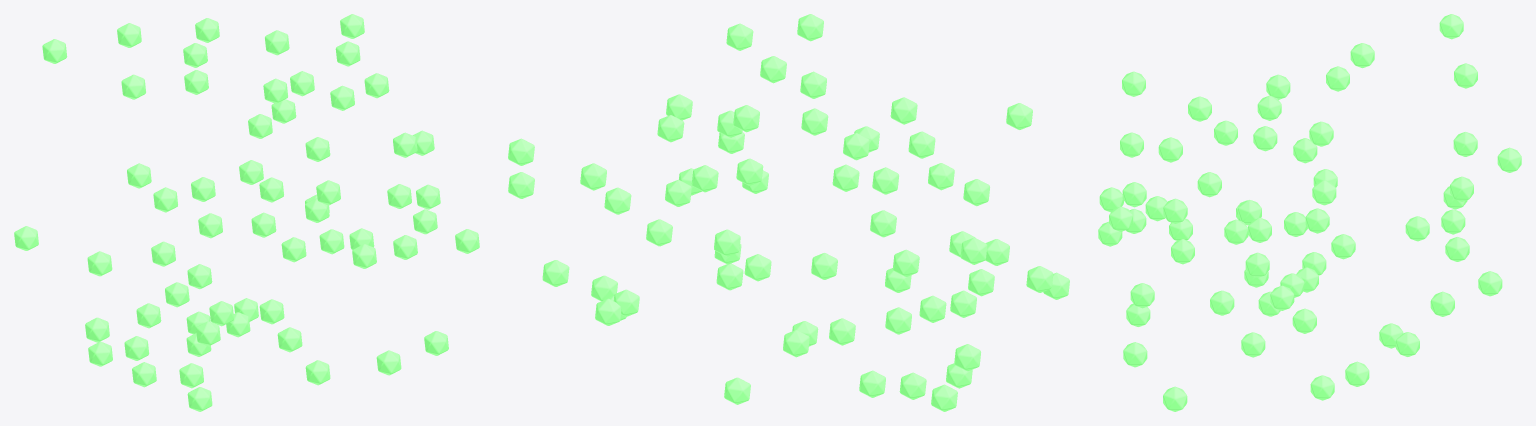
The model's file is SM_ANM_LanternMiteSwarm.fbx.
3 views of the same model, side by side, from view 1: azimuth 30°, elevation 25°; view 2: azimuth 150°, elevation 25°; view 3: azimuth 270°, elevation 25° (orthographic). The views are drawn at different scales.
Parts seen in each view (by area): view 1: SM_ANM_LanternMiteSwarm; view 2: SM_ANM_LanternMiteSwarm; view 3: SM_ANM_LanternMiteSwarm.
Boxes of the visible parts, bbox=[...] form: SM_ANM_LanternMiteSwarm: bbox=[14, 14, 479, 411]; SM_ANM_LanternMiteSwarm: bbox=[508, 14, 1069, 411]; SM_ANM_LanternMiteSwarm: bbox=[1098, 14, 1521, 411].
Size of what is drawn, in the model's own units: 1.43 by 1.07 by 1.47.
